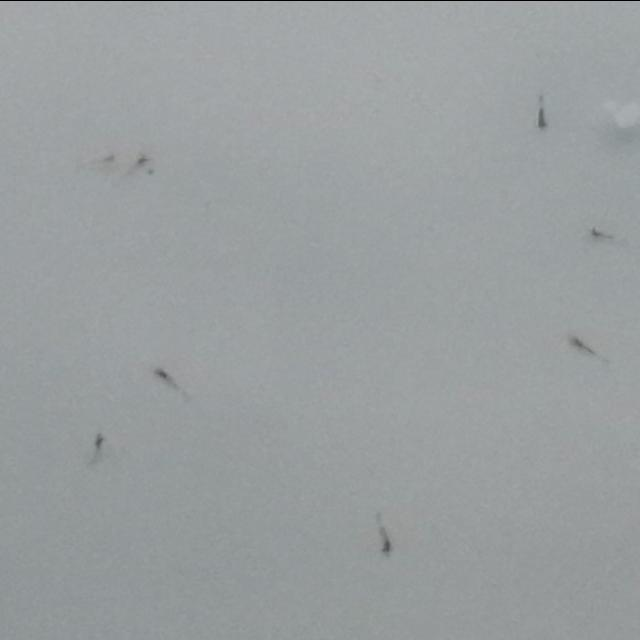shrimp-seed: (565, 331, 597, 359), (376, 531, 398, 559), (532, 104, 550, 131), (148, 365, 172, 385), (589, 222, 612, 242), (90, 432, 108, 453), (134, 151, 153, 167), (100, 150, 116, 166)
